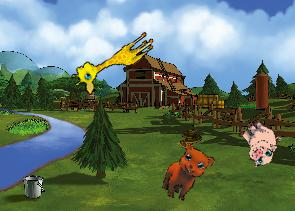bear: (158, 139, 217, 208)
giraffe: (67, 21, 158, 98)
pig: (231, 114, 287, 170)
